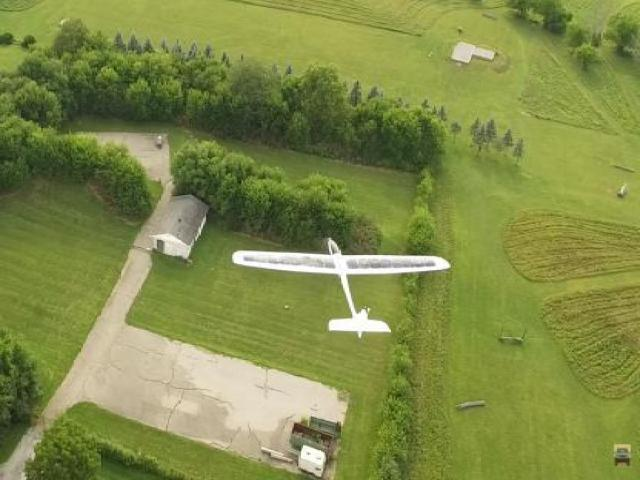uav: (228, 230, 452, 350)
